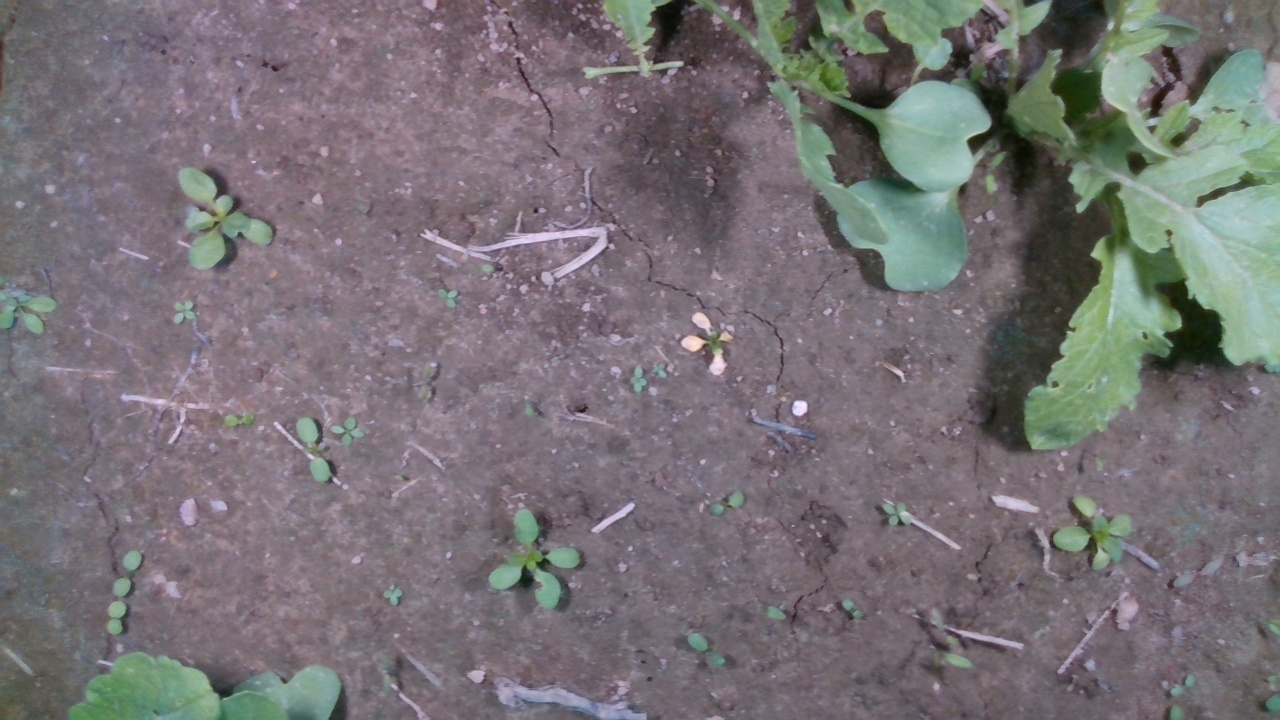weed: (109, 548, 144, 598), (685, 632, 727, 670), (707, 489, 745, 520), (328, 416, 365, 446), (880, 498, 913, 527), (104, 600, 128, 636), (626, 362, 648, 396), (170, 299, 197, 324), (221, 411, 259, 428), (436, 287, 460, 311), (380, 583, 404, 606), (841, 598, 863, 620), (651, 360, 667, 381)
